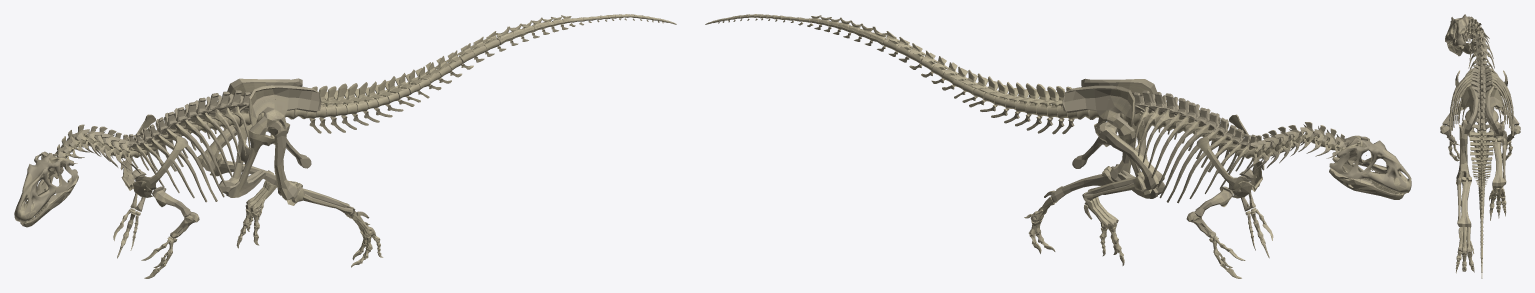
3 views of the same model, side by side, from view 1: azimuth 30°, elevation 25°; view 2: azimuth 150°, elevation 25°; view 3: azimuth 270°, elevation 25° (orthographic). The views are drawn at different scales.
Visible parts, largest first — view 1: Allosaurus_low_poly; view 2: Allosaurus_low_poly; view 3: Allosaurus_low_poly.
Boxes of the visible parts, x1,y1,x2,y2 form: Allosaurus_low_poly: (14, 14, 676, 278); Allosaurus_low_poly: (705, 14, 1411, 278); Allosaurus_low_poly: (1440, 14, 1520, 278).
Bounding box in the file's own units: 863 × 242 × 117.
1 material, 1 textured.
